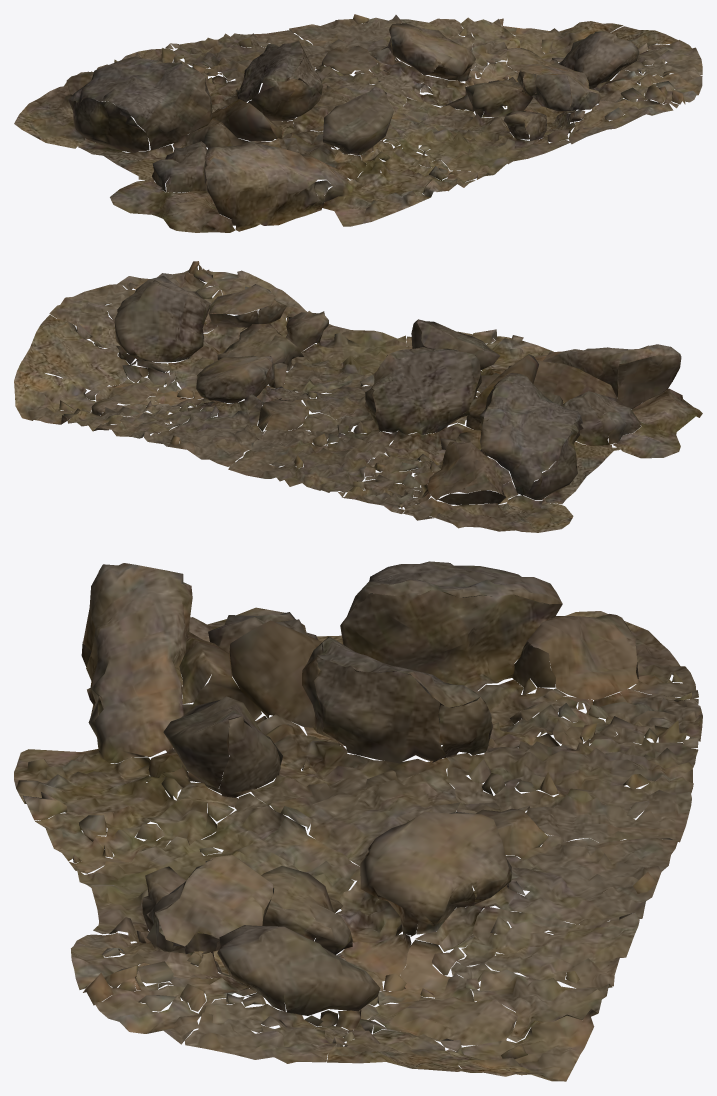
File: boulders.glb
3 views of the same model, one above another, from view 1: azimuth 30°, elevation 25°; view 2: azimuth 150°, elevation 25°; view 3: azimuth 270°, elevation 25° (orthographic). The views are drawn at different scales.
Parts seen in each view (by area): view 1: coast_land_rocks_03; view 2: coast_land_rocks_03; view 3: coast_land_rocks_03.
Boxes of the visible parts, <box> form: coast_land_rocks_03: <box>14,14,702,232</box>; coast_land_rocks_03: <box>14,261,702,532</box>; coast_land_rocks_03: <box>14,561,702,1081</box>.
Bounding box in the file's own units: 8.98 × 1.53 × 5.62.
1 material, 1 textured.
